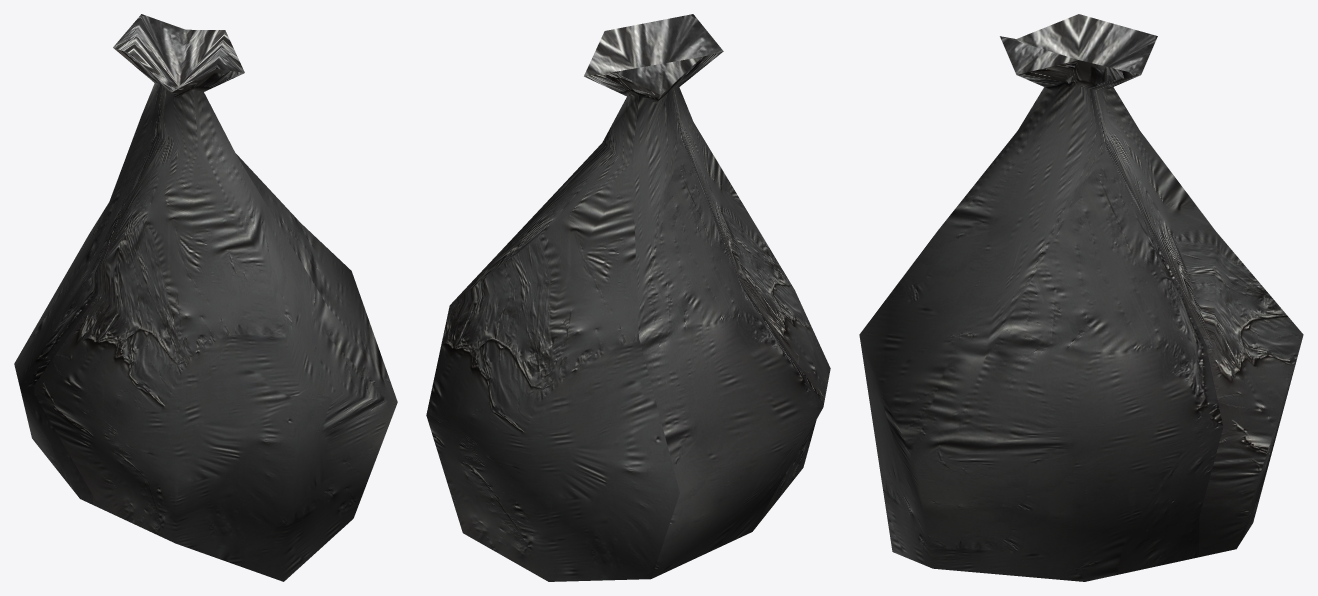
Rendered from garbagebag_1.fbx.
3 views of the same model, side by side, from view 1: azimuth 30°, elevation 25°; view 2: azimuth 150°, elevation 25°; view 3: azimuth 270°, elevation 25° (orthographic). The views are drawn at different scales.
Visible parts, largest first — view 1: garbage_bag; view 2: garbage_bag; view 3: garbage_bag.
Part boxes in pixels (x1,y1,x2,y2): garbage_bag: (14, 14, 397, 581); garbage_bag: (426, 14, 830, 581); garbage_bag: (859, 14, 1303, 581).
Bounding box in the file's own units: 0.6617 × 0.906 × 0.719.
